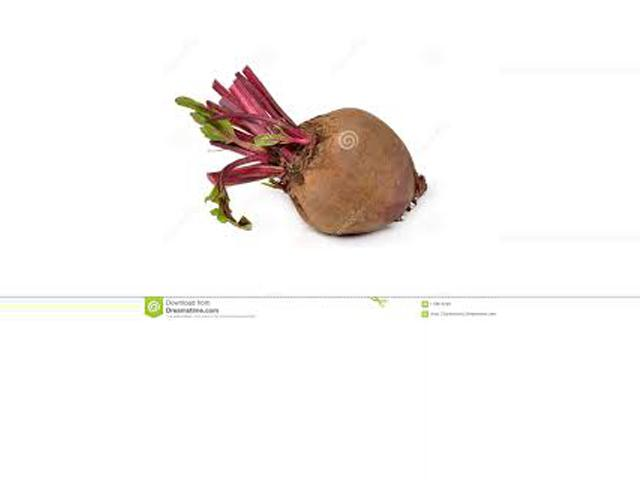beet: (176, 67, 427, 234)
